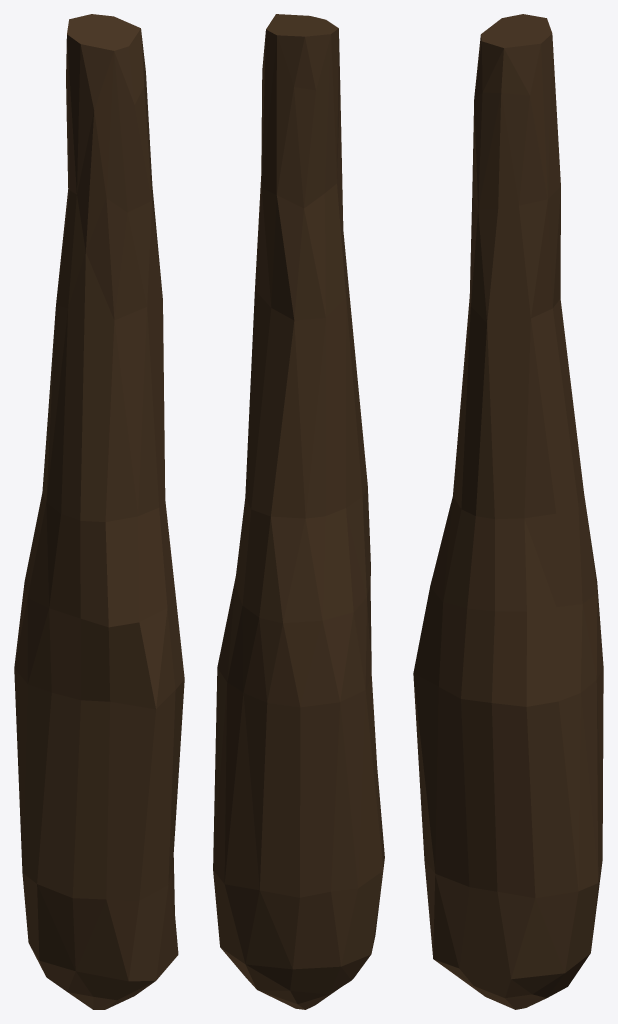
Rendered from laga.fbx.
3 views of the same model, side by side, from view 1: azimuth 30°, elevation 25°; view 2: azimuth 150°, elevation 25°; view 3: azimuth 270°, elevation 25° (orthographic).
Parts seen in each view (by area): view 1: laga; view 2: laga; view 3: laga.
Part boxes in pixels (x1,y1,x2,y2): laga: (14, 14, 184, 1009); laga: (213, 14, 384, 1009); laga: (413, 14, 603, 1009).
Bounding box in the file's own units: 22.12 × 143 × 25.13.
